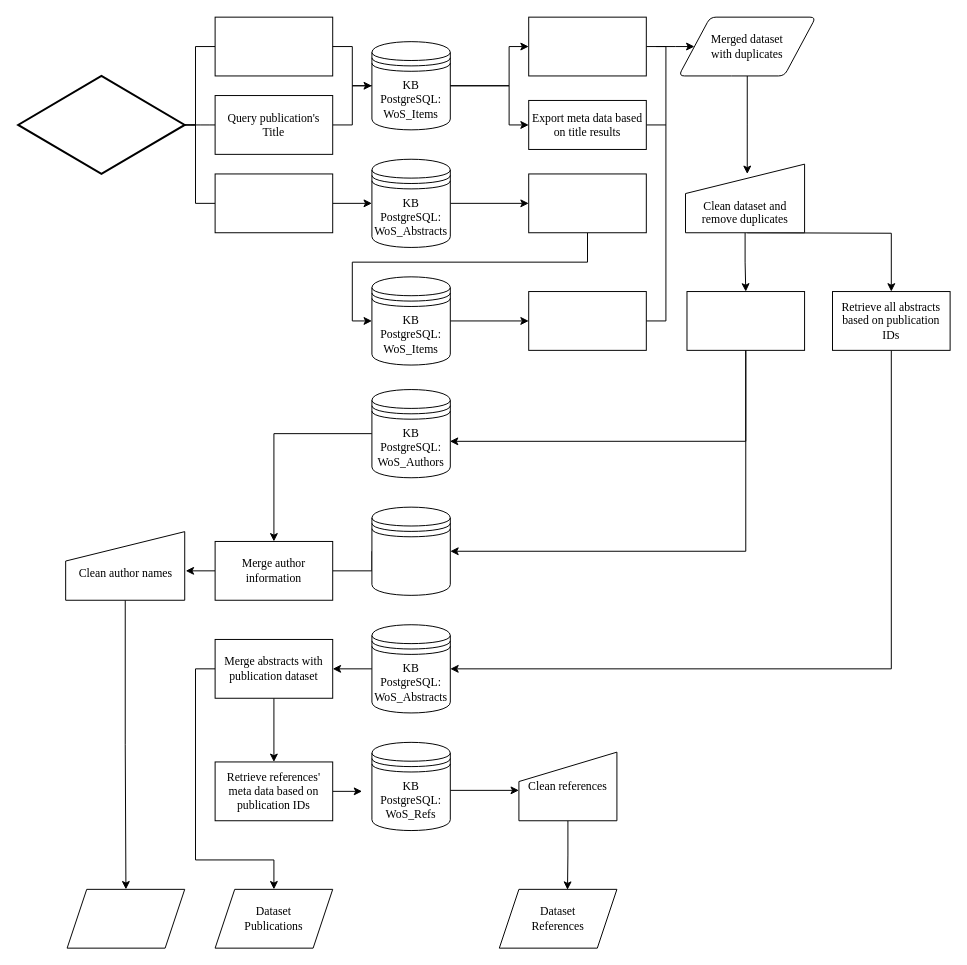
Some shapes in this 967 by 965 pixel diagram are drawn without their labels. Here are the shapes that lost their labels. From the top down, the centre of each, then its label:
point (273, 46): Query publication's keywords
point (587, 46): Export meta data based on keyword results
point (101, 124): Keyword "computational neuroscience(s)"
point (273, 203): Query publication's Abstract
point (587, 203): Retrieve publication data based on found abstracts
point (587, 320): Export meta data based on abstract results
point (745, 320): Retrieve full author information
point (410, 550): KB PostgreSQL: WoS_Auth_Aff
point (125, 918): Dataset Authors
